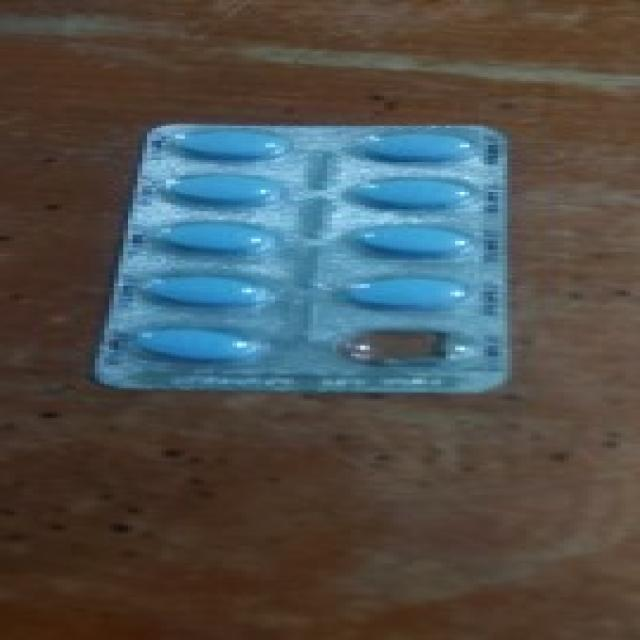Cacat: (90, 120, 514, 394)
Kemasan: (334, 320, 476, 374)
